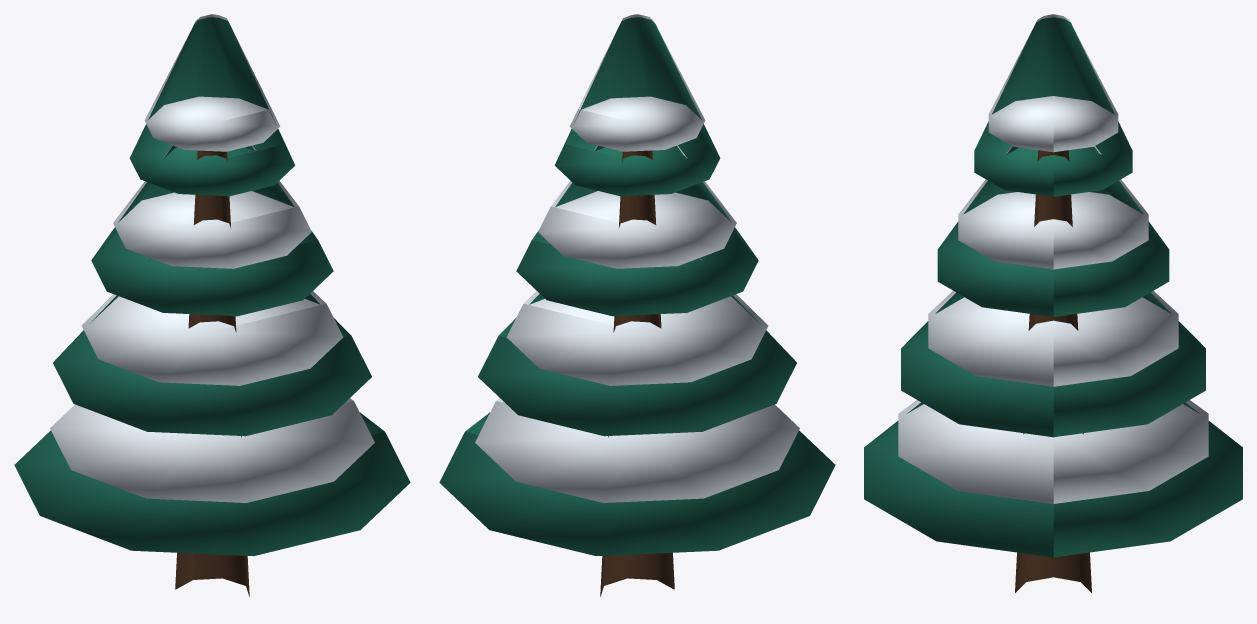
The model's file is pine_snow.glb.
The picture shows the model from 3 angles, left to right: view 1: azimuth 30°, elevation 25°; view 2: azimuth 150°, elevation 25°; view 3: azimuth 270°, elevation 25°; orthographic projection.
Parts seen in each view (by area): view 1: SnowPine; view 2: SnowPine; view 3: SnowPine.
Boxes of the visible parts, x1,y1,x2,y2 form: SnowPine: (14,14,410,596); SnowPine: (439,14,835,596); SnowPine: (864,14,1242,592).
Size of the model in its own units: 3.3 by 5.3 by 3.14.
